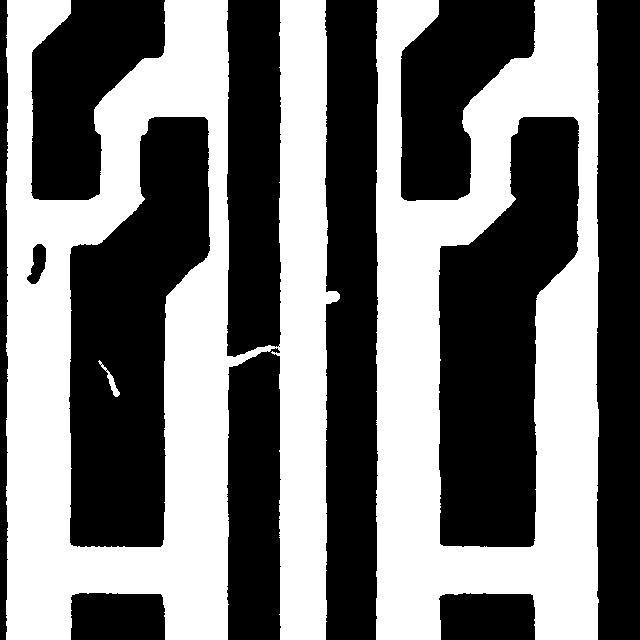copper: (17, 234, 55, 293)
mousebite: (313, 281, 349, 313)
open: (211, 335, 294, 376)
pin-hole: (88, 350, 129, 406)
